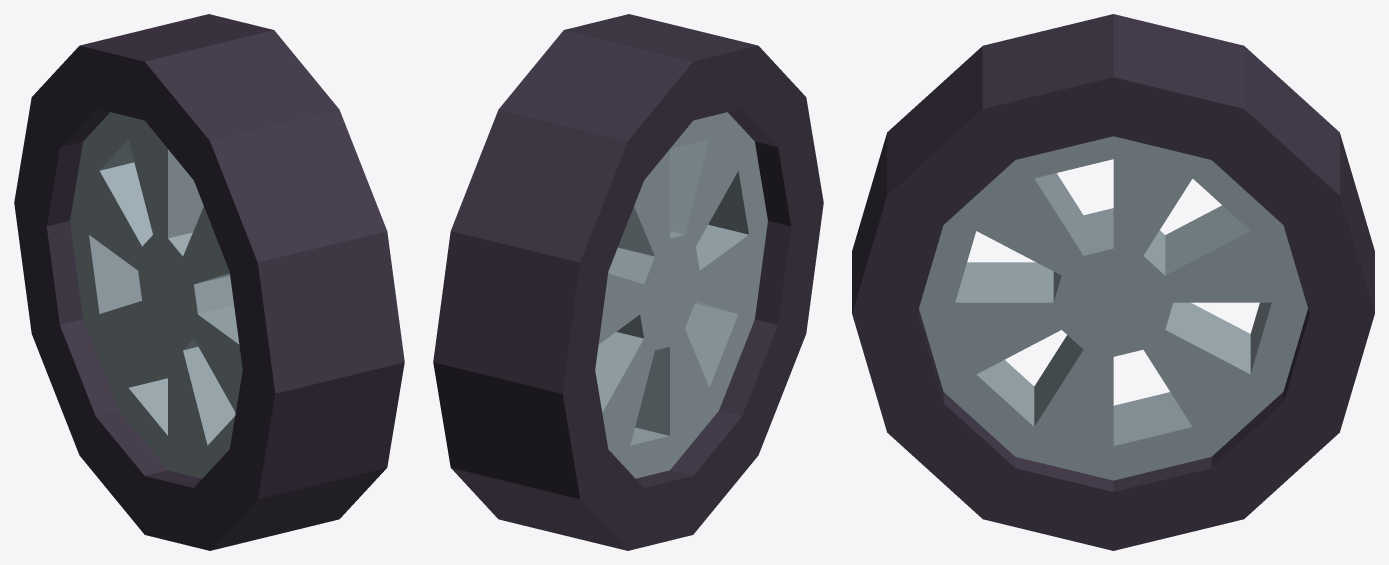
The model's file is RuotaVan.fbx.
3 renders of one model, left to right at view 1: azimuth 30°, elevation 25°; view 2: azimuth 150°, elevation 25°; view 3: azimuth 270°, elevation 25°, orthographic.
Parts seen in each view (by area): view 1: Ruota; view 2: Ruota; view 3: Ruota.
Boxes of the visible parts, box(x1,y1,x2,y2) form: Ruota: box(14, 14, 404, 550); Ruota: box(433, 14, 823, 550); Ruota: box(852, 14, 1374, 550).
Bounding box in the file's own units: 28.47 × 99.44 × 99.44.
